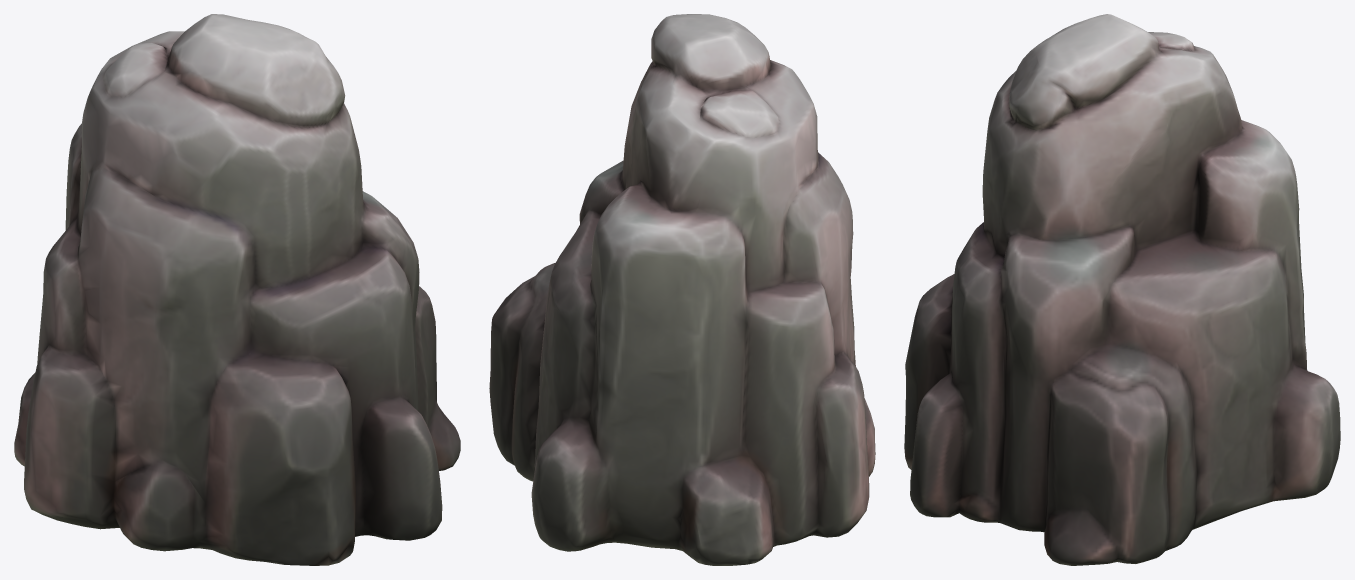
The model's file is o3_roccia_00.glb.
3 views of the same model, side by side, from view 1: azimuth 30°, elevation 25°; view 2: azimuth 150°, elevation 25°; view 3: azimuth 270°, elevation 25° (orthographic). The views are drawn at different scales.
Parts seen in each view (by area): view 1: sb_modello; view 2: sb_modello; view 3: sb_modello.
Boxes of the visible parts, <box> form: sb_modello: <box>14,14,460,565</box>; sb_modello: <box>489,14,875,565</box>; sb_modello: <box>904,14,1340,565</box>.
Bounding box in the file's own units: 4.94 × 5.66 × 4.97.
1 material, 1 textured.
